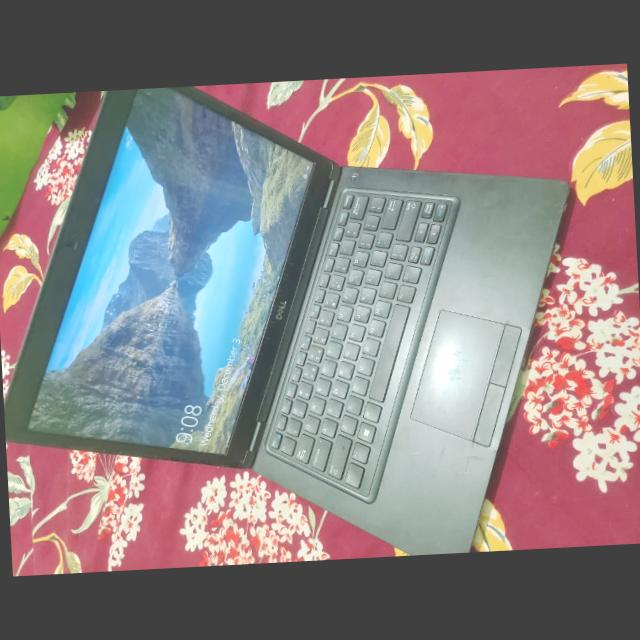laptop: (0, 73, 602, 569)
